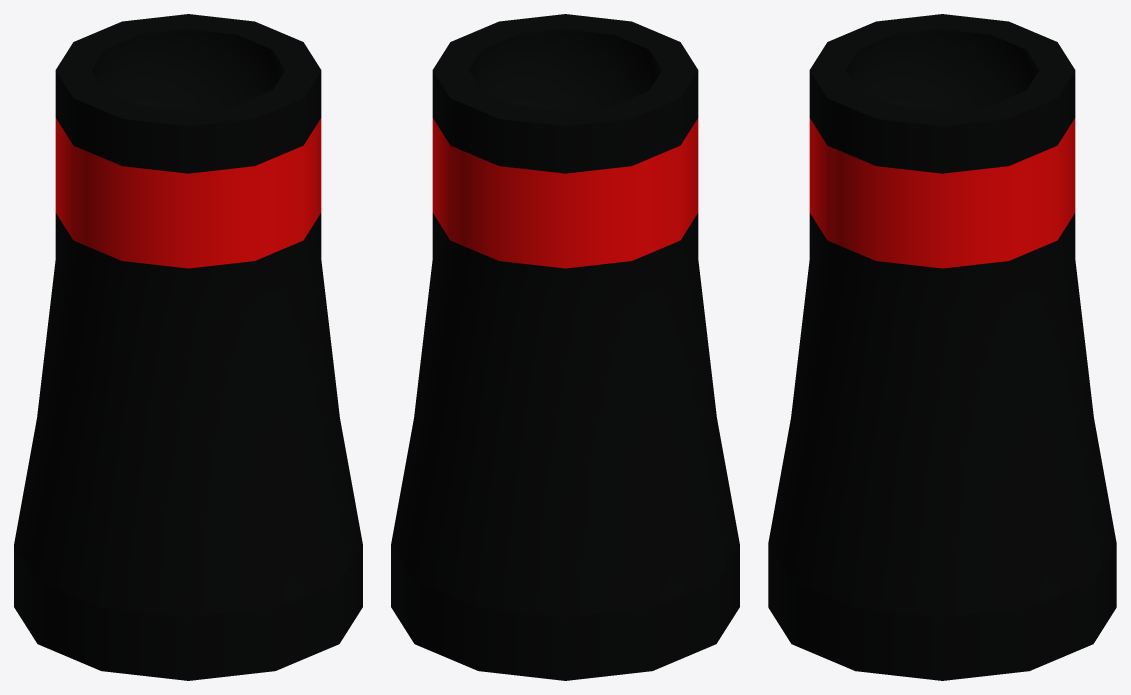
Rendered from chimney-large.glb.
The picture shows the model from 3 angles, left to right: view 1: azimuth 30°, elevation 25°; view 2: azimuth 150°, elevation 25°; view 3: azimuth 270°, elevation 25°; orthographic projection.
Visible parts, largest first — view 1: chimney-large; view 2: chimney-large; view 3: chimney-large.
Part boxes in pixels (box(x1,y1,x2,y2)): chimney-large: box(14, 14, 362, 680); chimney-large: box(391, 14, 739, 680); chimney-large: box(768, 14, 1116, 680).
Size of the model in its own units: 1 by 1.7 by 1.
Materials: 1 (1 with a texture image).
